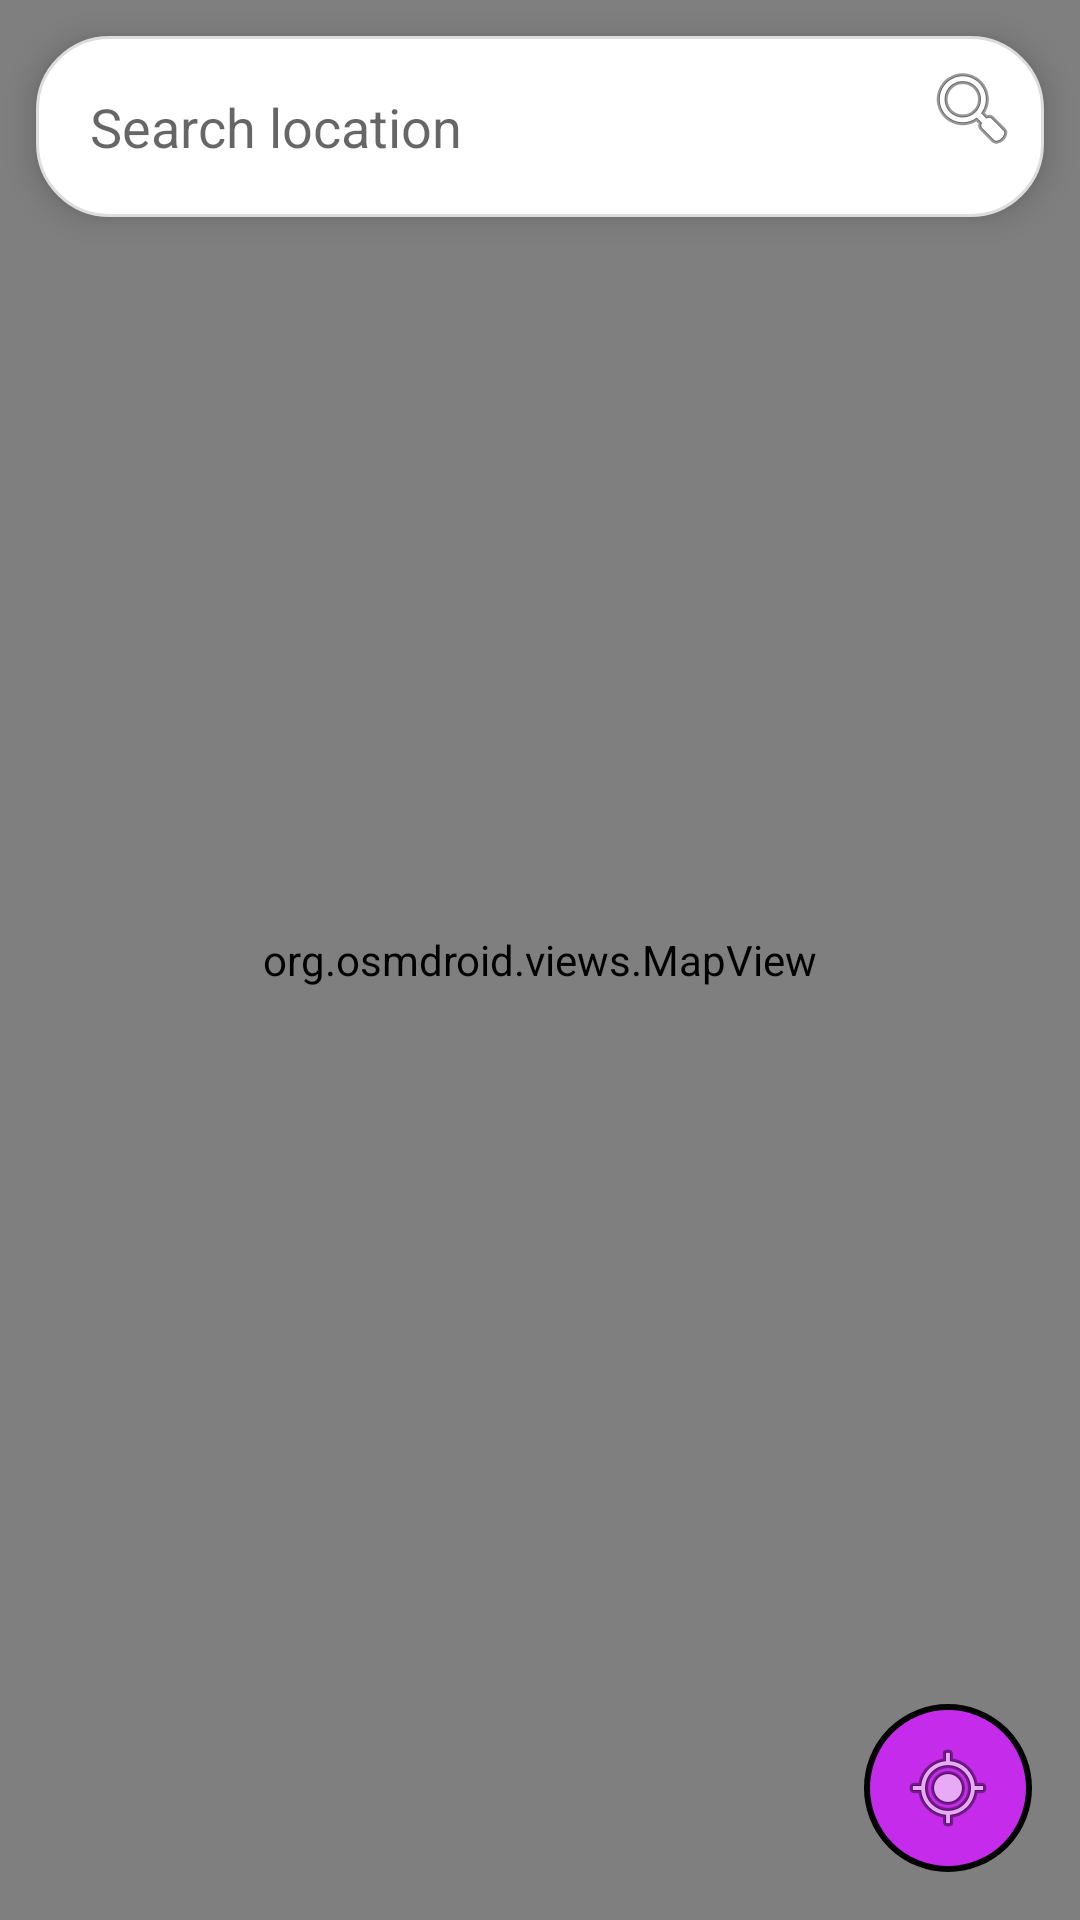

Screen size 1080 × 1920. Icon name, then its box in pixels as [x1=x1, y1=y1, x2=x2, y2=y2]:
My Location: [x1=864, y1=1704, x2=1032, y2=1872]
